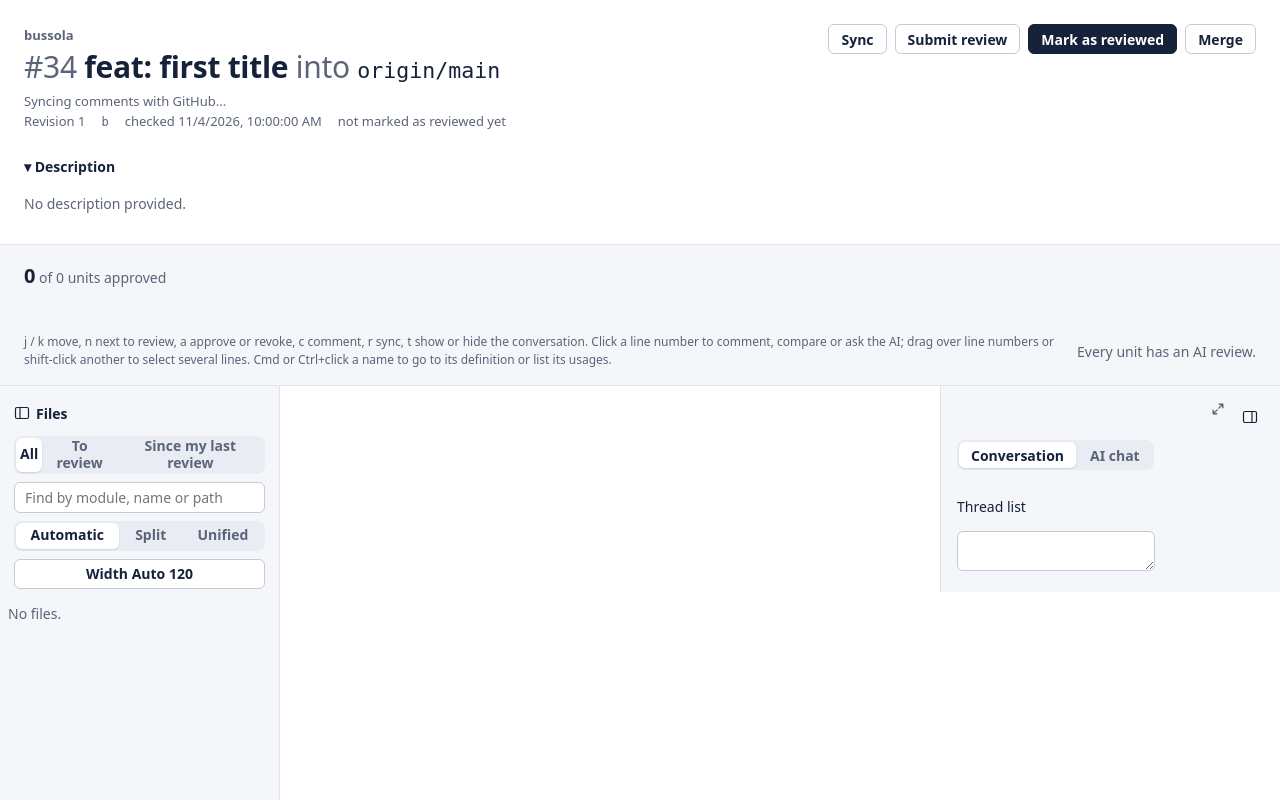
Test: ReviewPage conversation panel › hides the panel behind a thin bar with the open count and remembers it after a reload
Later steps or results of the test are not shown.
expect the text "Thread list" is shown: met, box [957,497,1026,516]
What coordinates should you click on to do the following:
click the button named "Hide conversation"
I would click on:
 (1250, 417)
Its box is [1236,402,1264,432].
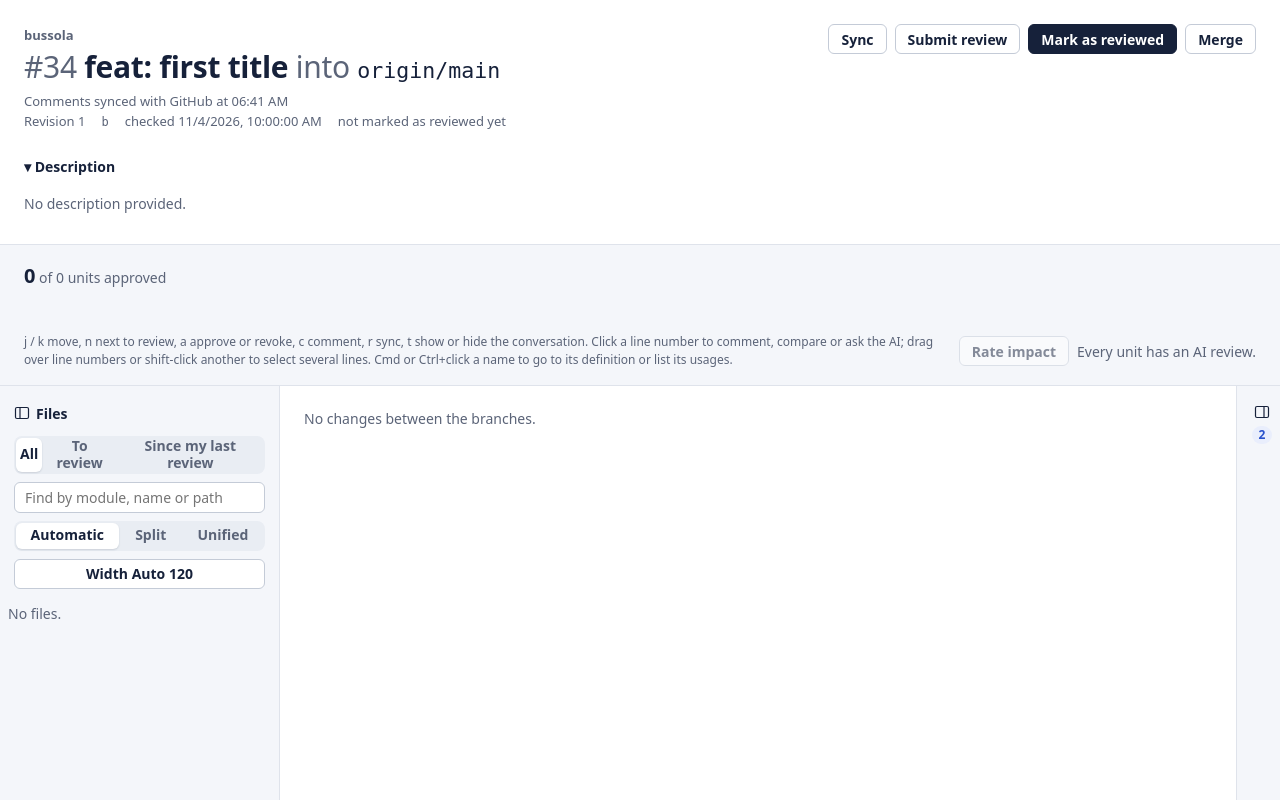
expect the text "Thread list" is gone: met
expect the button named "Show conversation (2 open)" is collapsed: met, box [1248,398,1276,450]
expect the button named "Show conversation (2 open)" reads "2": met, box [1248,398,1276,450]
